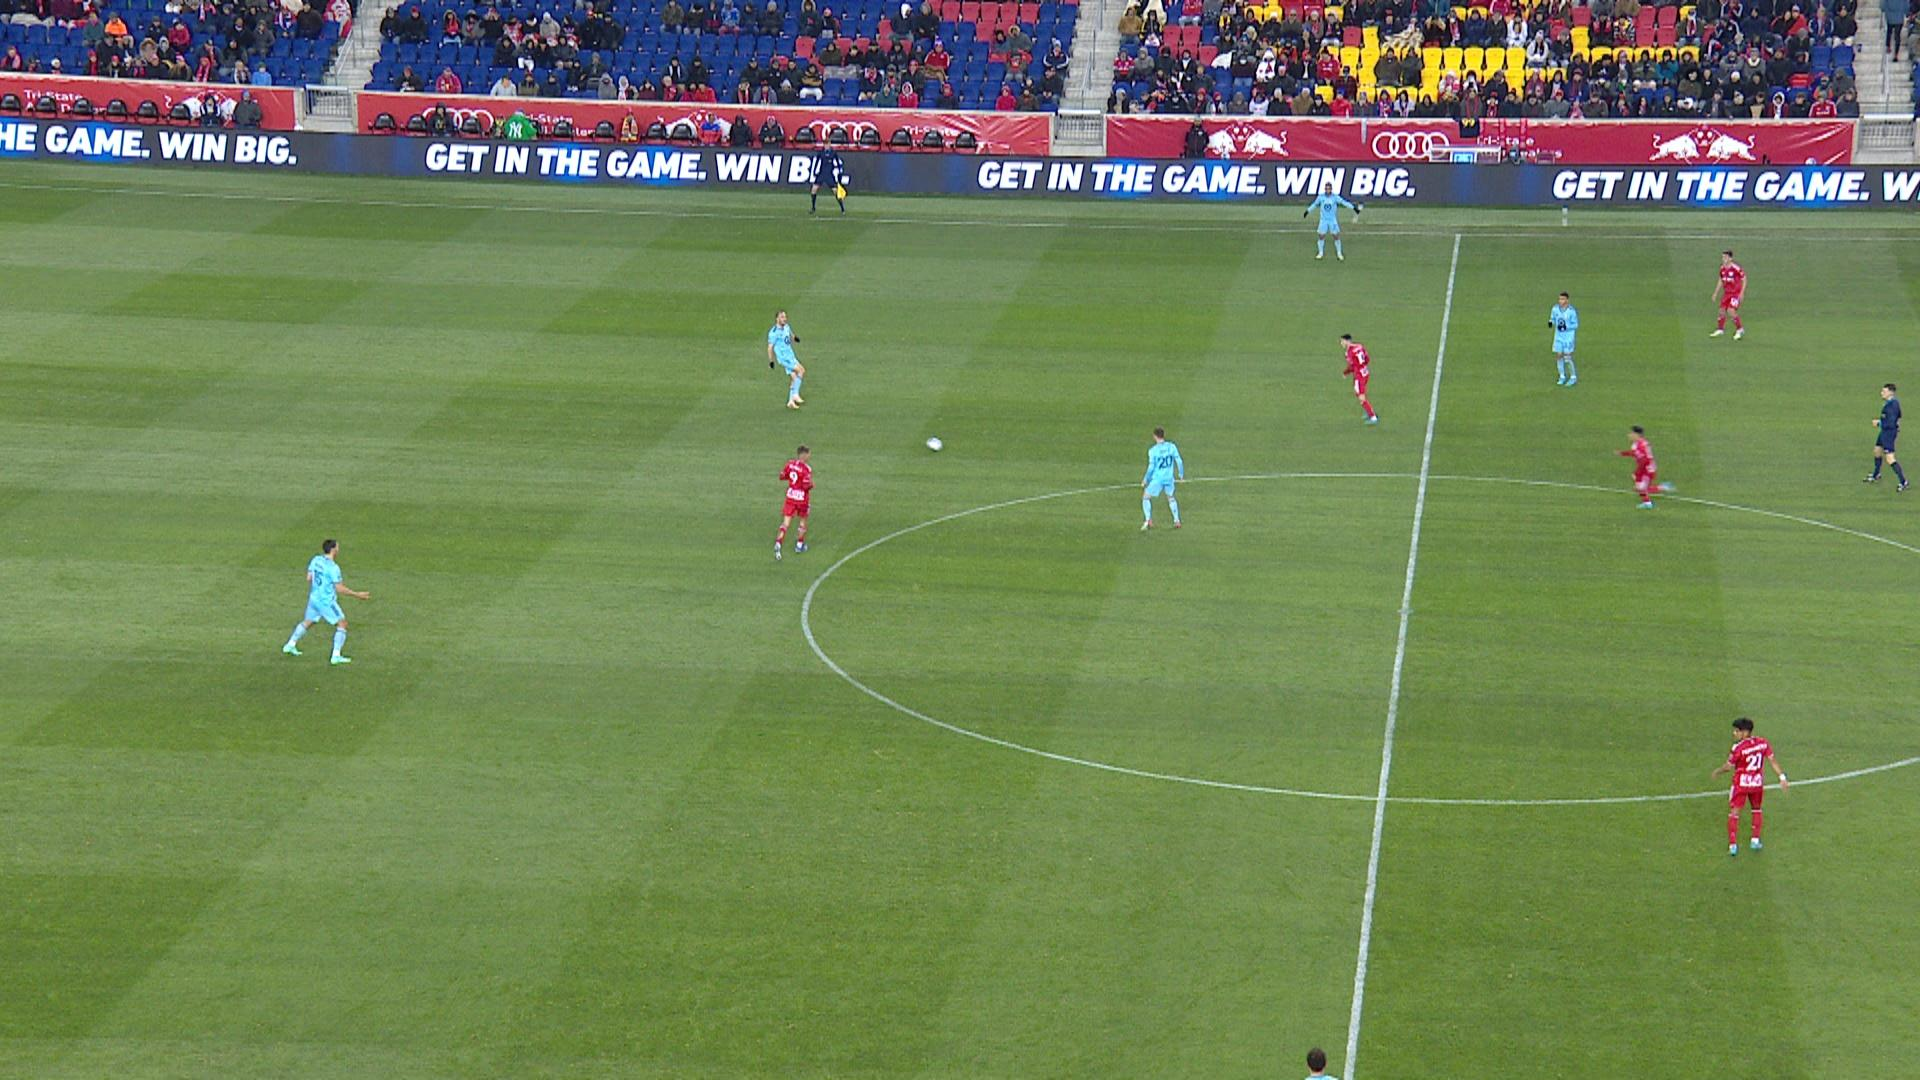football: (927, 436, 943, 452)
